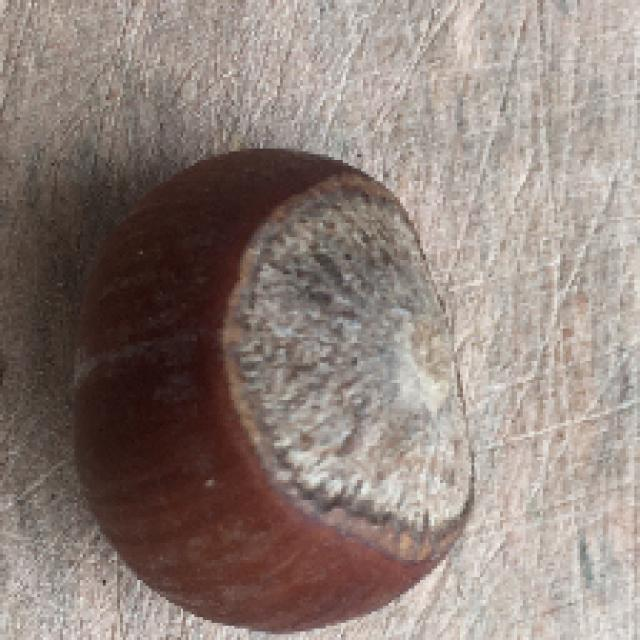DamagedHazelnut: (75, 148, 480, 637)
